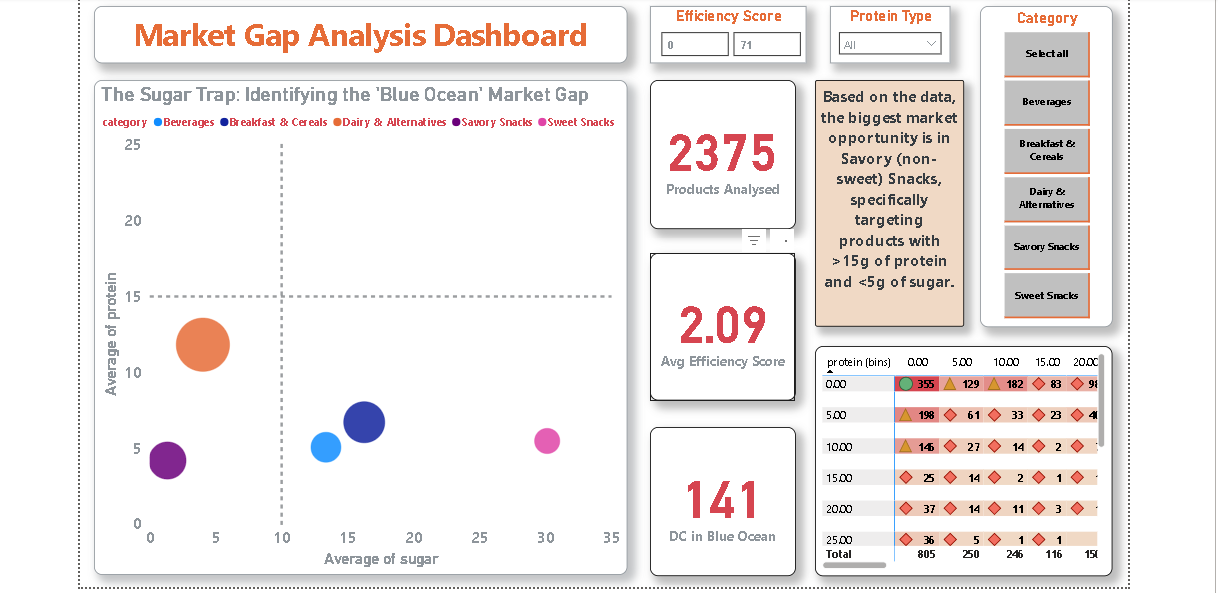

Layout of this report page (visuals, bound fields, positions):
{"tool":"powerbi","page":{"name":"Market Overview","canvas":[1280,720],"ordinal":0},"visuals":[{"type":"scatterChart","title":"The Sugar Trap: Identifying the ''Blue Ocean'' Market Gap","fields":{"X":["Avg(final_marketing_analysis.sugar)"],"Y":["Avg(final_marketing_analysis.protein)"],"Category":["final_marketing_analysis.category"],"Series":["final_marketing_analysis.category"],"Size":["Avg(final_marketing_analysis.efficiency_score)"]},"box":[17.1,101.4,651.4,604.3],"z":0},{"type":"card","title":"Products Analysed","fields":{"Values":["Count(final_marketing_analysis.name)"]},"box":[695.1,101.8,177.5,181.7],"z":1000},{"type":"textbox","box":[897.4,101.8,181.7,301.4],"z":2000},{"type":"textbox","box":[16.5,11,651,70.2],"z":3000},{"type":"slicer","title":"Efficiency Score","fields":{"Values":["final_marketing_analysis.efficiency_score"]},"box":[695.1,11,191.3,70.2],"z":4000},{"type":"slicer","title":"Protein Type","fields":{"Values":["final_marketing_analysis.protein_source"]},"box":[915.3,11,147.3,70.2],"z":5000},{"type":"slicer","title":"Category","fields":{"Values":["final_marketing_analysis.category"]},"box":[1098.3,11,162.4,392.3],"z":6000},{"type":"card","title":"Products Analysed","fields":{"Values":["Count(final_marketing_analysis.name)"]},"box":[695.1,524.4,177.5,181.7],"z":7000},{"type":"card","title":"Products Analysed","fields":{"Values":["Avg(final_marketing_analysis.efficiency_score)"]},"box":[695.1,312.4,177.5,180.3],"z":8000},{"type":"pivotTable","fields":{"Rows":["final_marketing_analysis.protein (bins)"],"Columns":["final_marketing_analysis.sugar (bins)"],"Values":["Count(final_marketing_analysis.name)"]},"box":[897.4,425.3,363.4,280.8],"z":9000}]}

Visuals, with their boxes in screenshot pixels (x1, y1, x2, y2):
"The Sugar Trap: Identifying the ''Blue Ocean'' Market Gap" scatterChart: [x1=96, y1=79, x2=626, y2=570]
"Products Analysed" card: [x1=647, y1=80, x2=791, y2=227]
textbox: [x1=812, y1=80, x2=959, y2=324]
textbox: [x1=96, y1=6, x2=625, y2=63]
"Efficiency Score" slicer: [x1=647, y1=6, x2=803, y2=63]
"Protein Type" slicer: [x1=826, y1=6, x2=946, y2=63]
"Category" slicer: [x1=975, y1=6, x2=1107, y2=324]
"Products Analysed" card: [x1=647, y1=423, x2=791, y2=570]
"Products Analysed" card: [x1=647, y1=251, x2=791, y2=397]
pivotTable - final_marketing_analysis.protein (bins) x final_marketing_analysis.sugar (bins): [x1=812, y1=342, x2=1107, y2=570]
